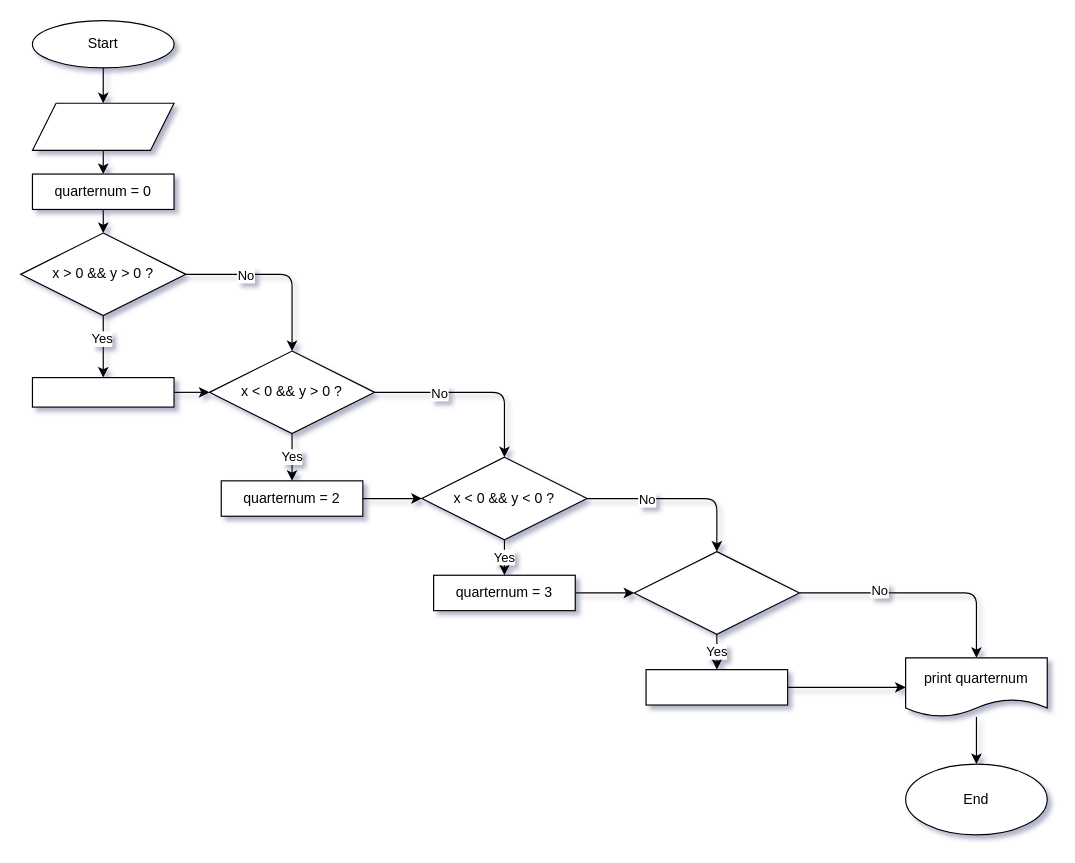
This 1075x863 diagram has some shape labels left out. Here are the shapes that lost their labels. From the top down, the centre of each, then its label:
At (x=102, y=126): "X Y".
At (x=102, y=391): "quarternum = 1".
At (x=716, y=592): "x > 0 && y < 0 ?".
At (x=716, y=686): "quarternum = 4".
